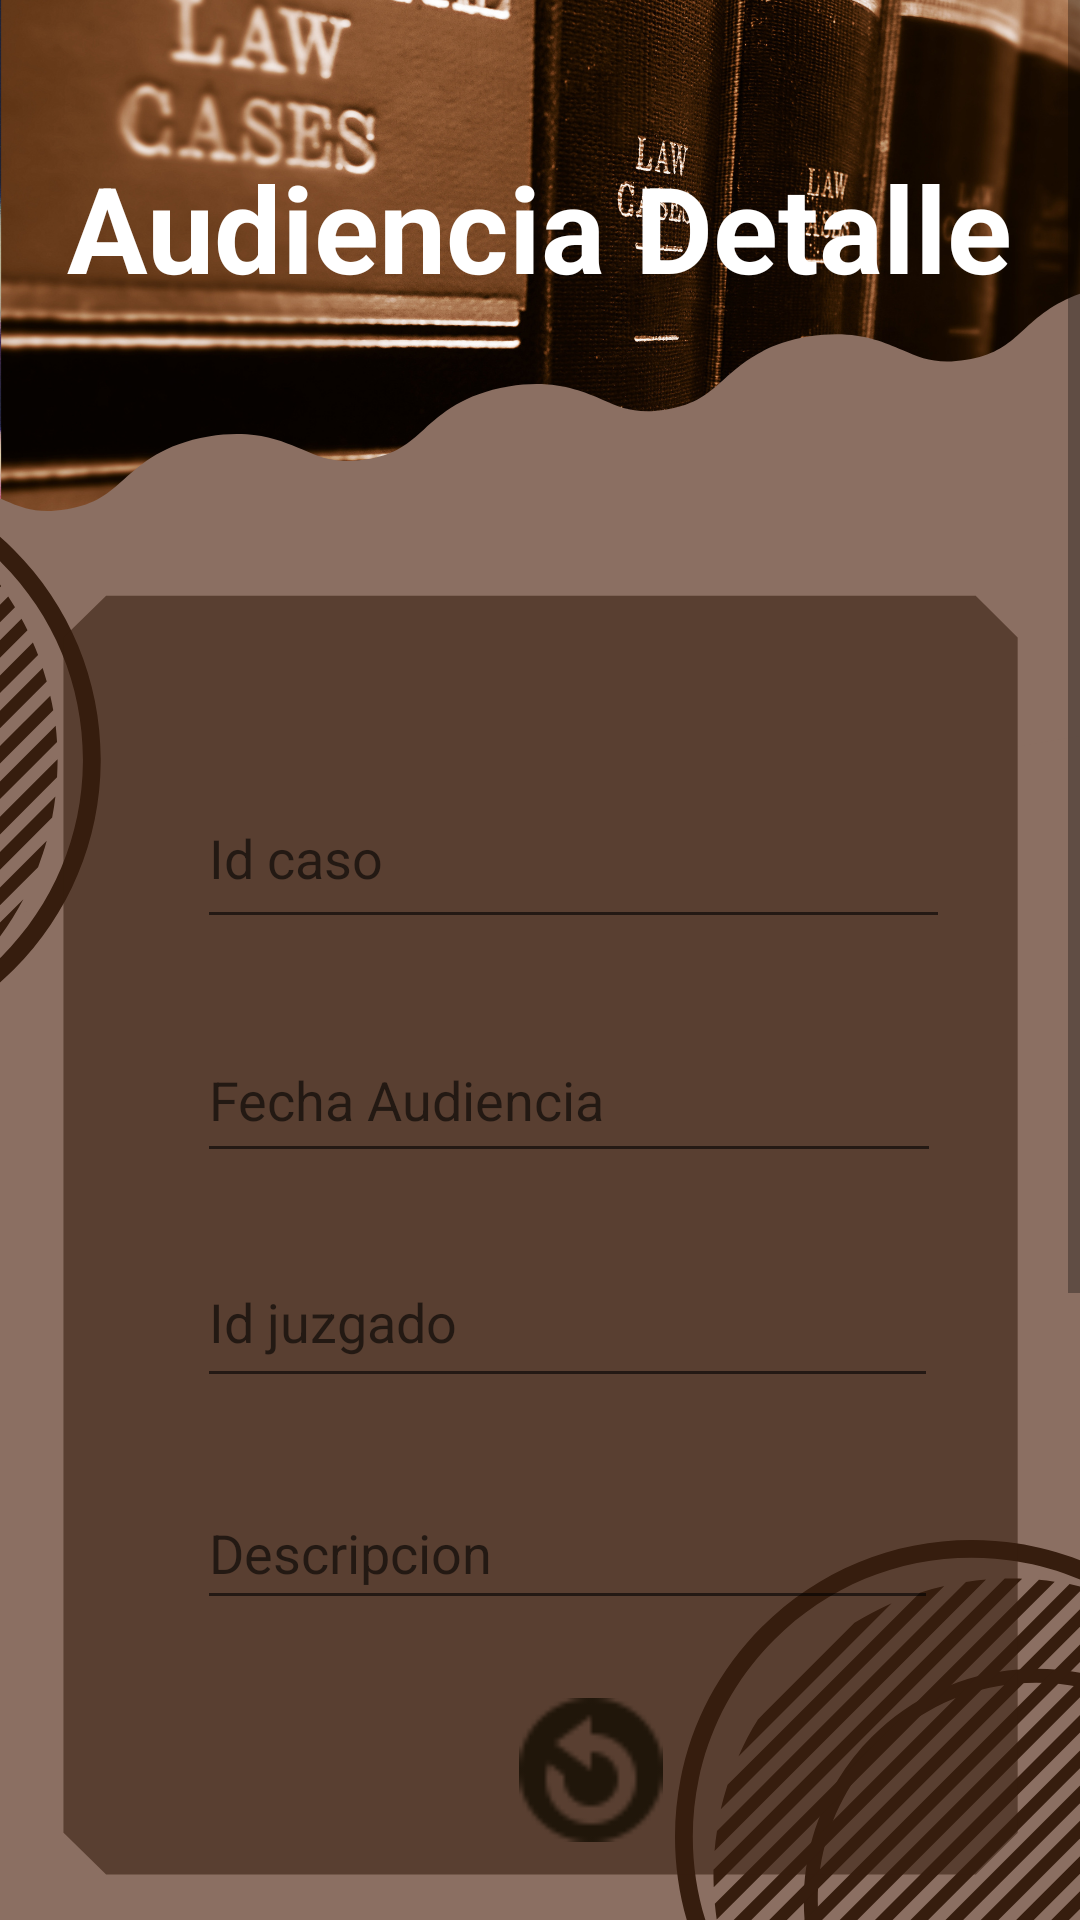

Icons on this 1080w x 1920h Android screen, each with the point to tap as [x,y]:
actualizar: [591,1770]
